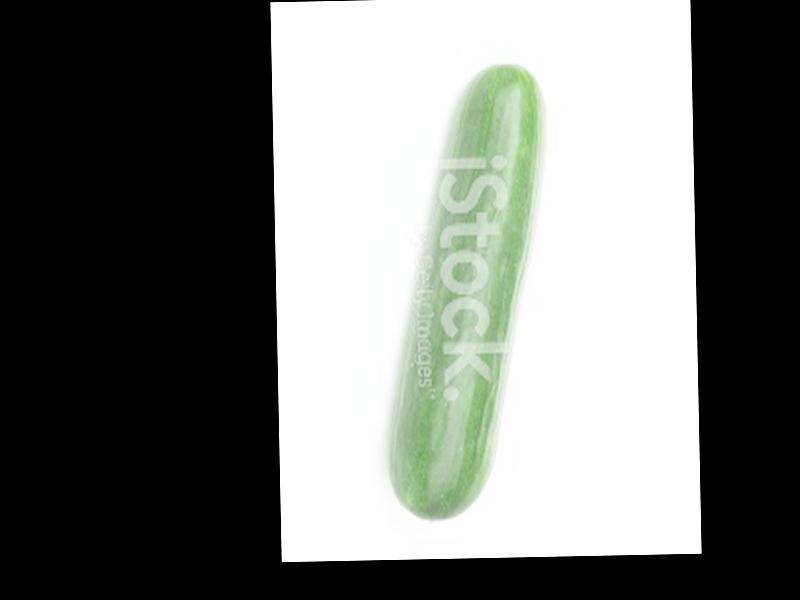Cucumber: (382, 61, 552, 523)
